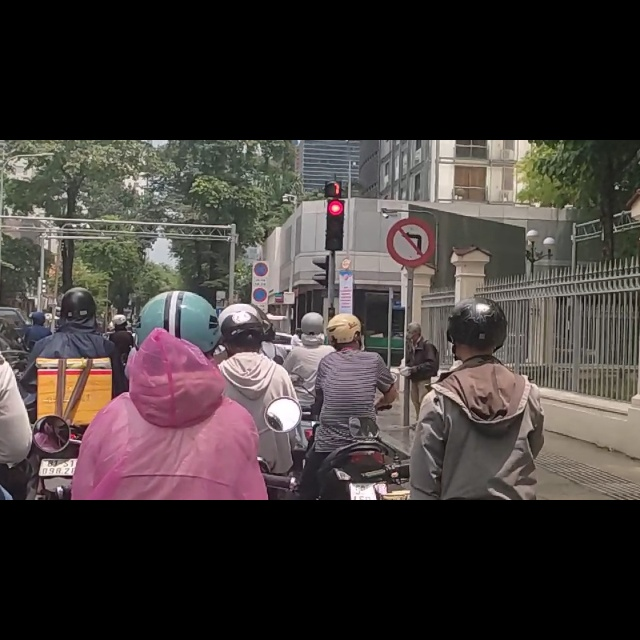bien_chi_dan: (386, 134, 435, 226), (253, 216, 268, 244), (253, 262, 268, 290)
